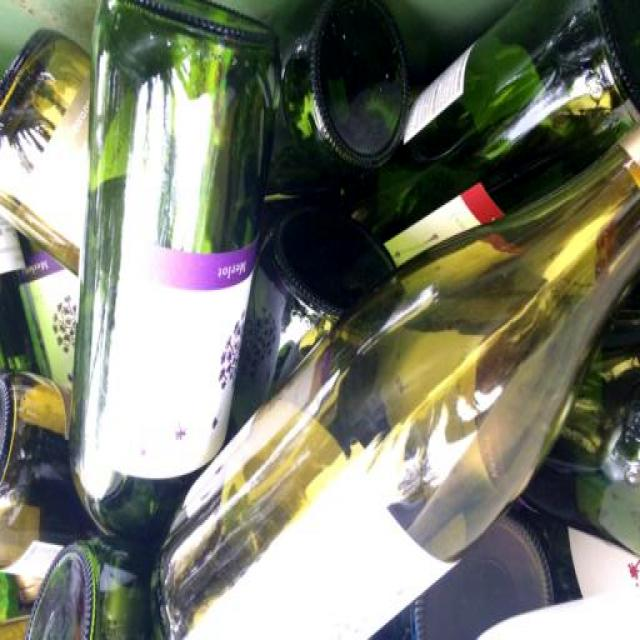Glass: (160, 125, 640, 639), (70, 0, 275, 539), (352, 2, 640, 264), (158, 422, 346, 640), (529, 277, 640, 554), (0, 21, 90, 273), (411, 518, 554, 640), (310, 2, 409, 168), (26, 543, 150, 640)
